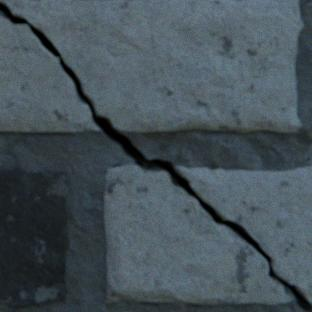brick: (0, 169, 69, 306)
broken_brick: (0, 0, 302, 131), (104, 164, 293, 303), (174, 165, 311, 301), (0, 14, 101, 131)
crack: (0, 2, 311, 311)
